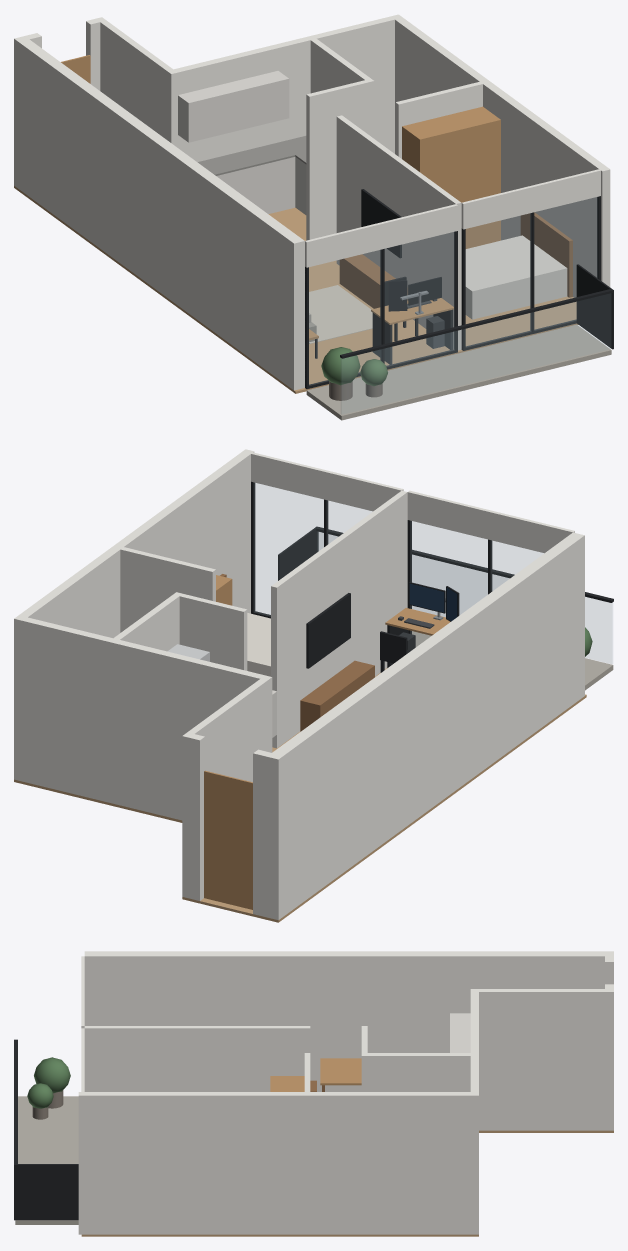
File: modelo-3d-tu-dibujo.glb
The picture shows the model from 3 angles, top to bottom: view 1: azimuth 30°, elevation 25°; view 2: azimuth 150°, elevation 25°; view 3: azimuth 270°, elevation 25°; orthographic projection. The views are drawn at different scales.
Size of the model in its own units: 5.8 by 2.7 by 10.18.
